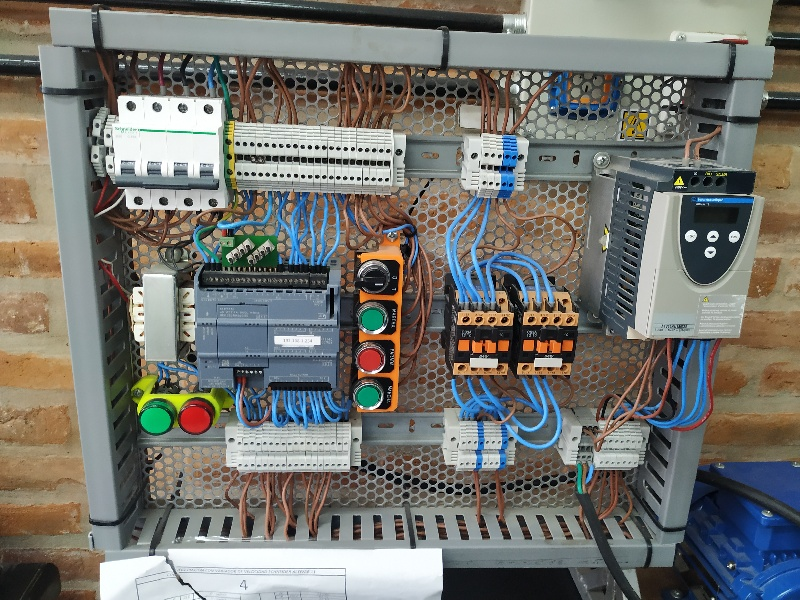Tablero 4: (63, 28, 764, 535)
